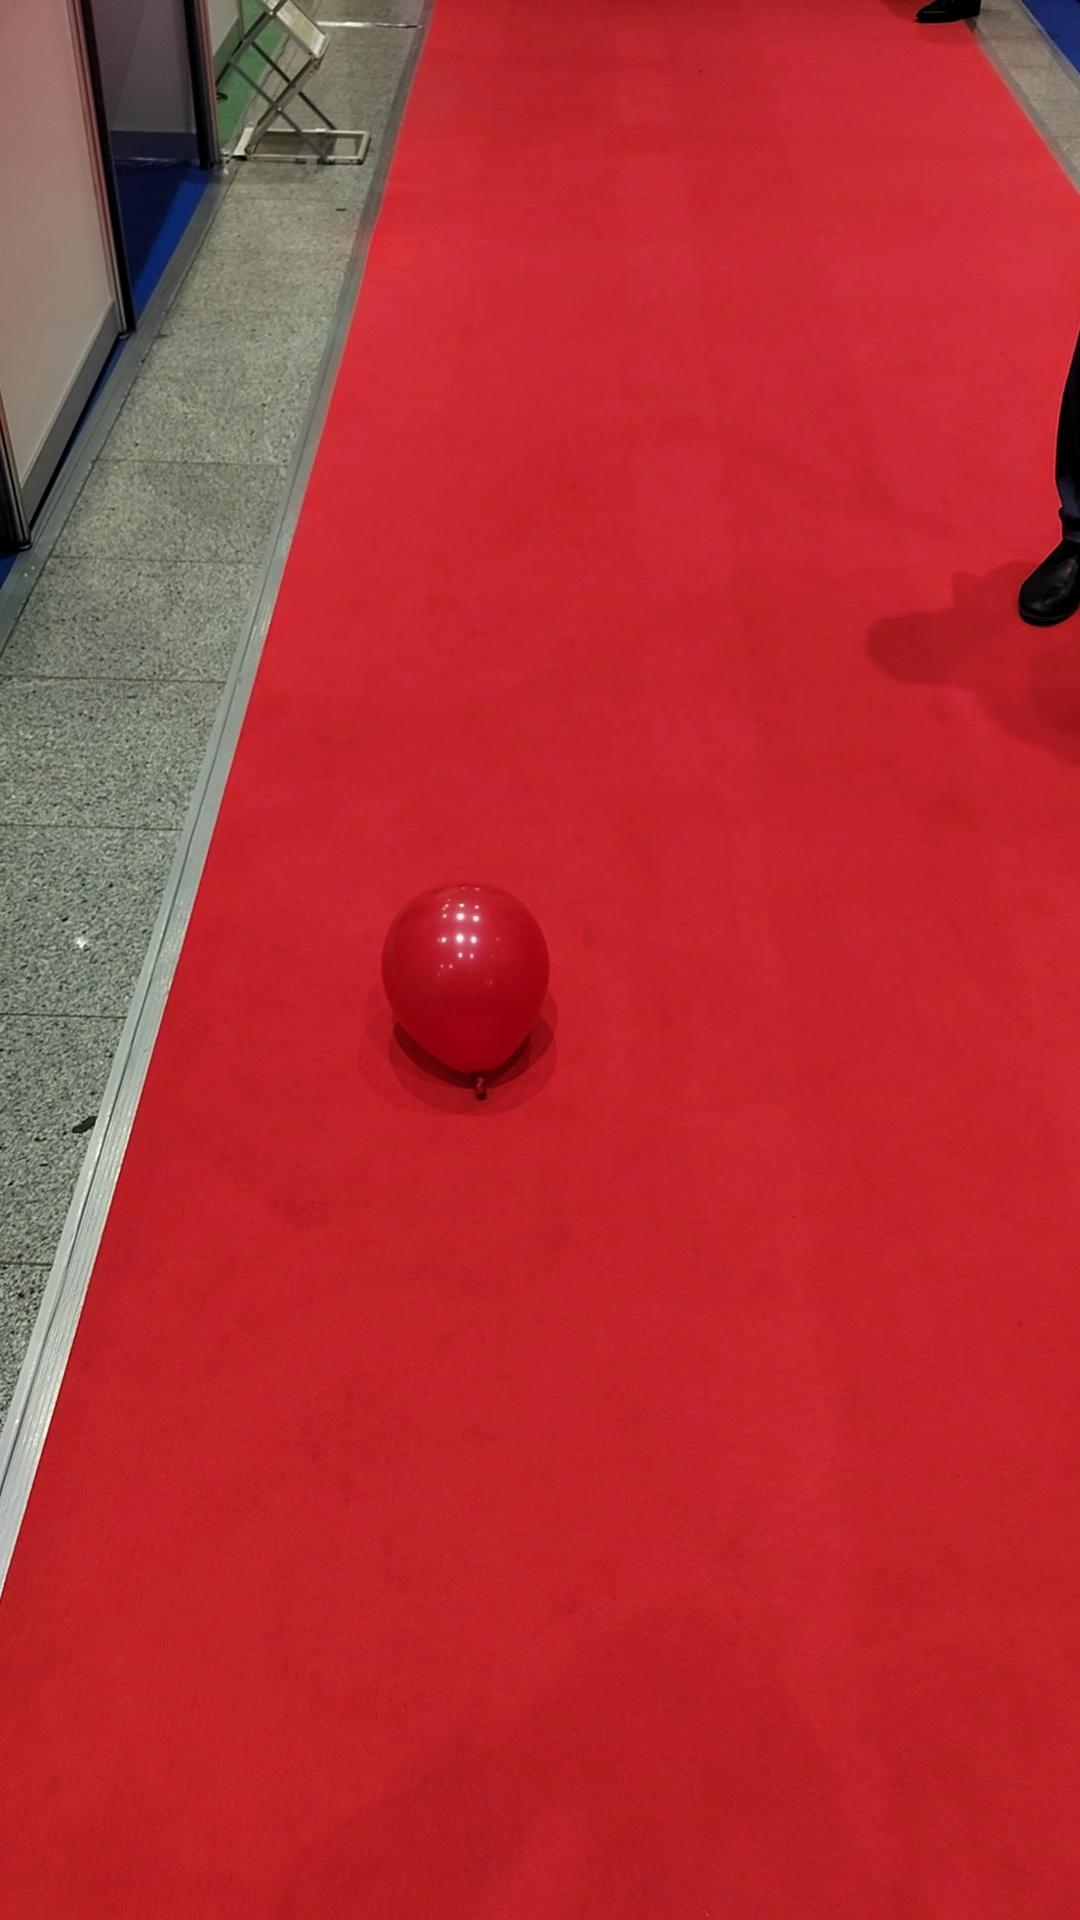red: (381, 885, 550, 1083)
